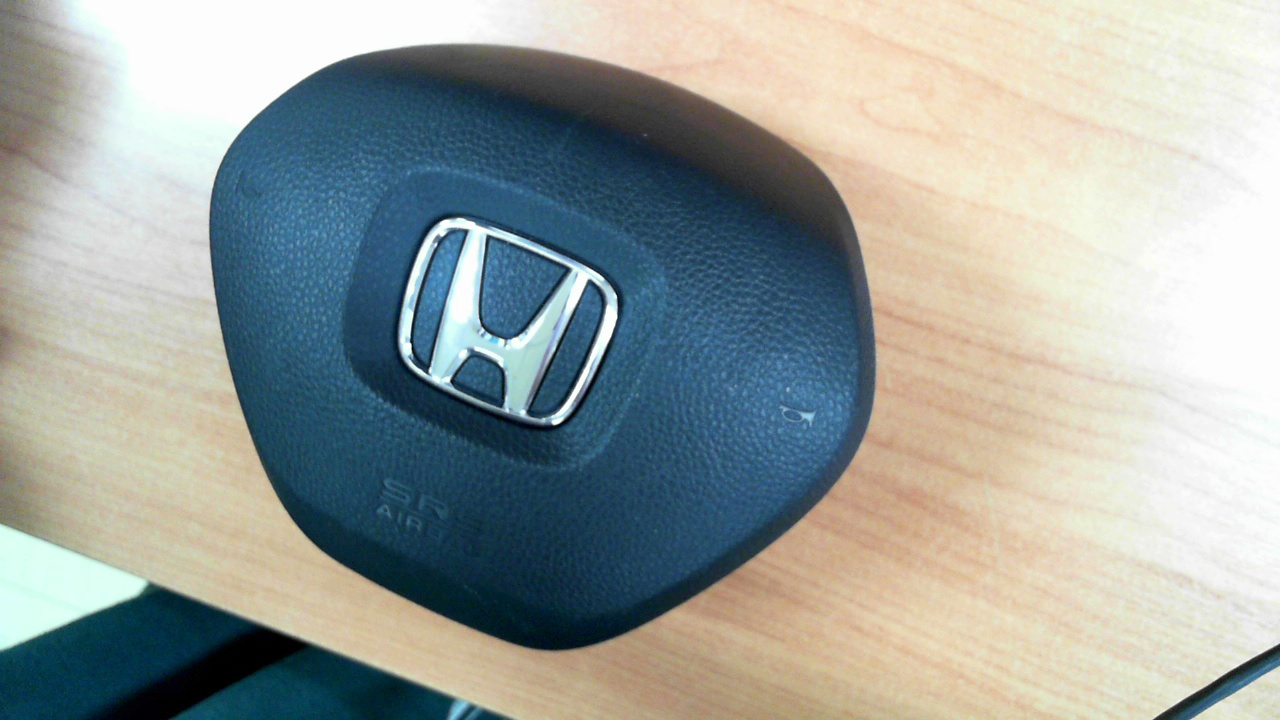Airbag: (208, 42, 877, 654)
Honda: (397, 216, 619, 427)
